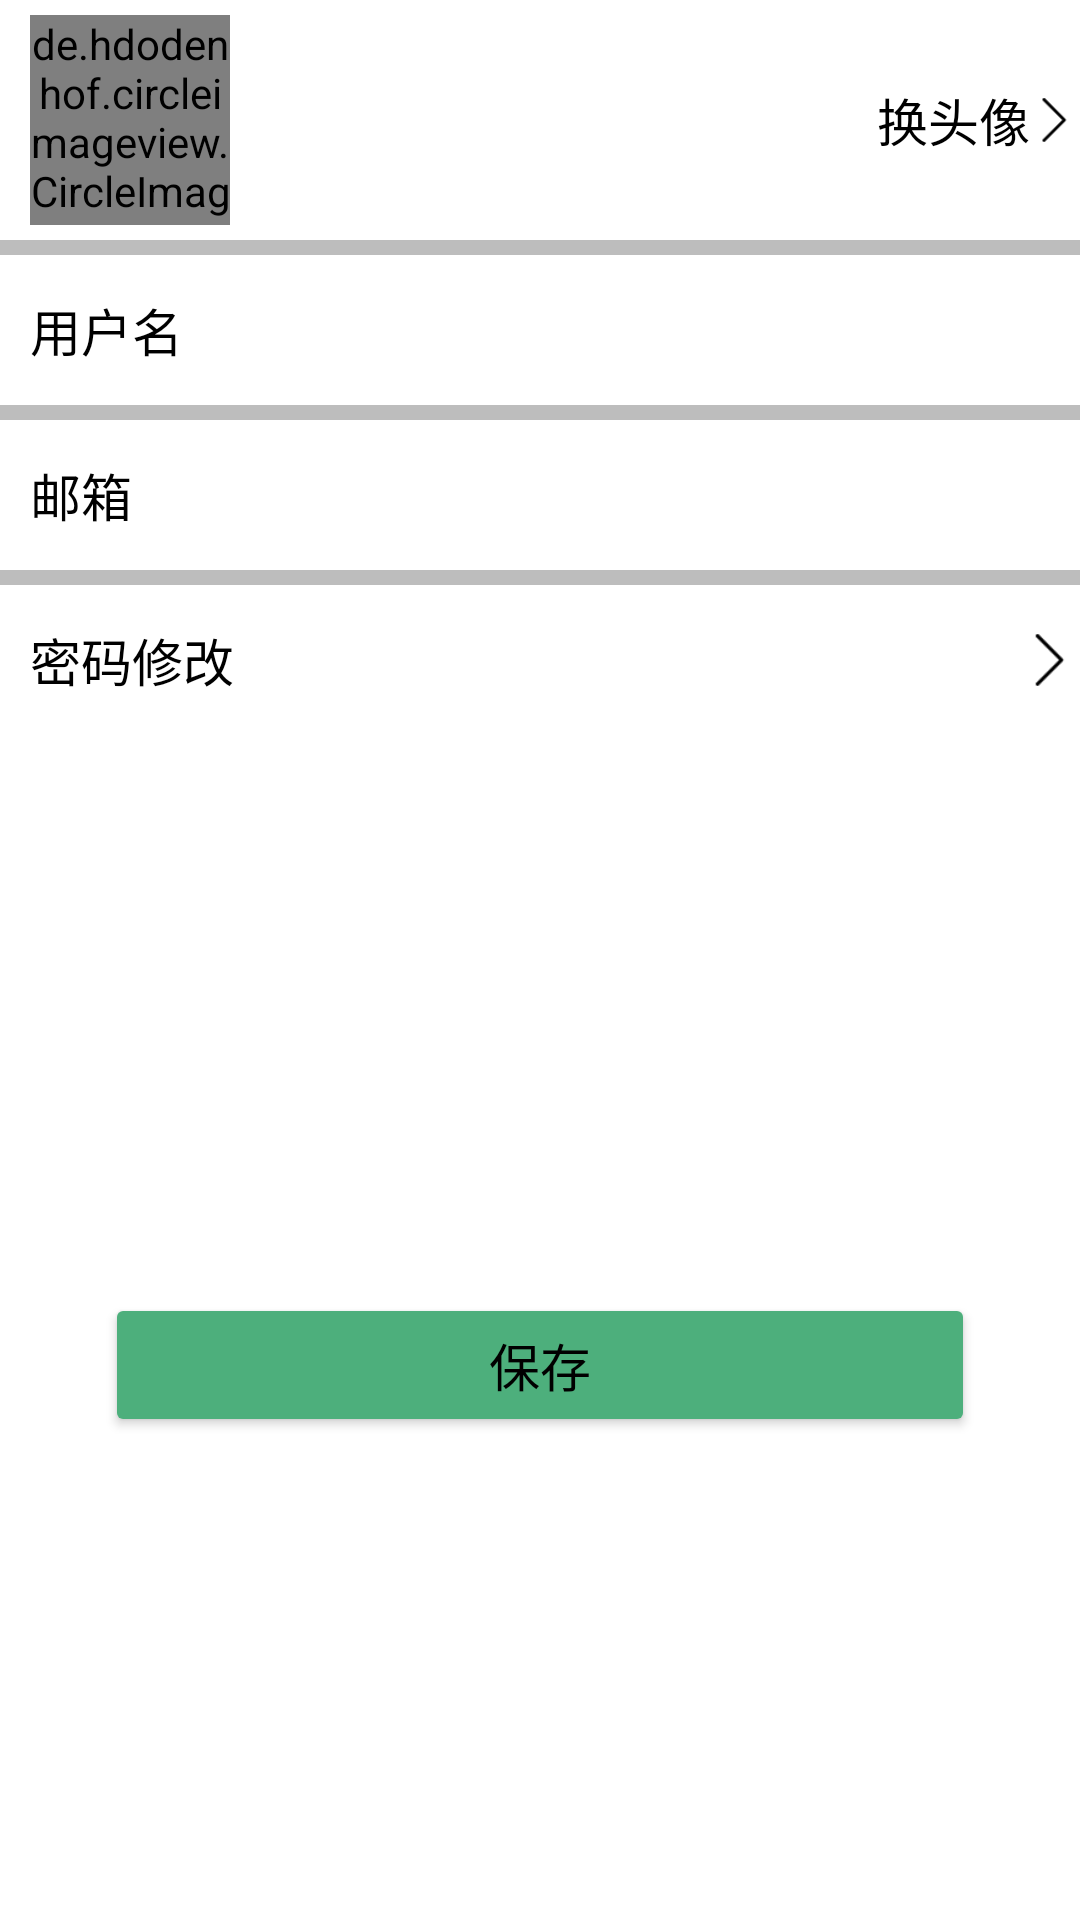

Where icons sit on this 1080x1920 app screen, as (x1, y1, x2, y2):
detail: (1042, 98, 1067, 142), (1035, 634, 1064, 686)
